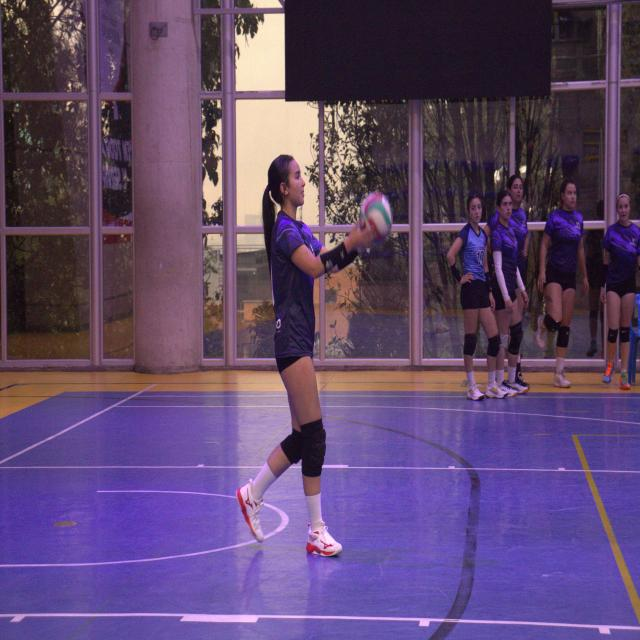volleyball: (358, 191, 392, 243)
